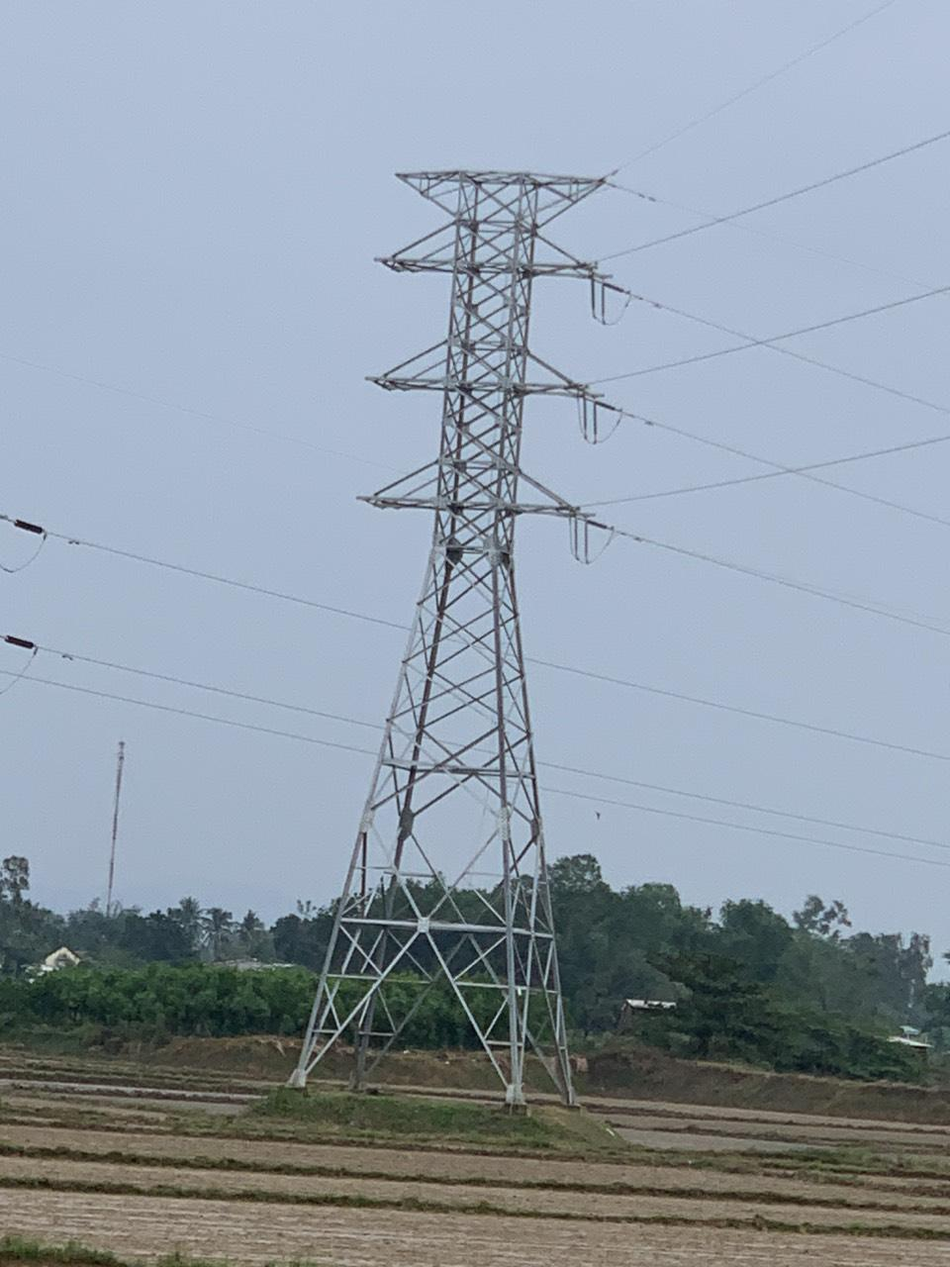power_tower: (299, 139, 580, 1109)
